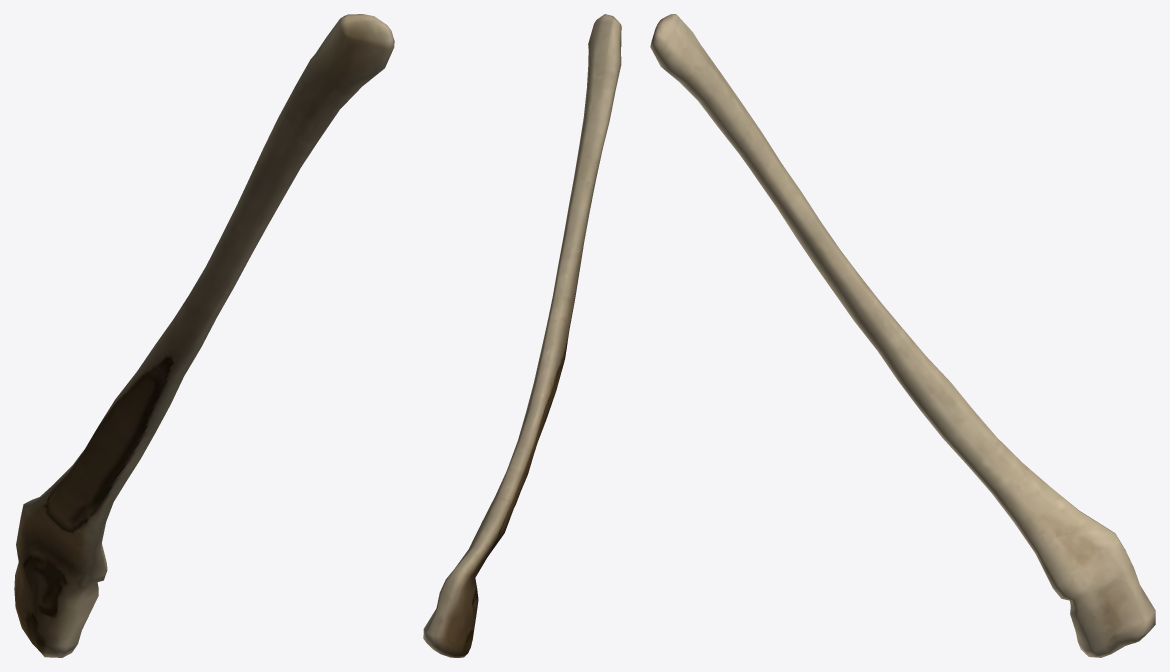
Rendered from Fibula.glb.
3 views of the same model, side by side, from view 1: azimuth 30°, elevation 25°; view 2: azimuth 150°, elevation 25°; view 3: azimuth 270°, elevation 25° (orthographic). The views are drawn at different scales.
Parts seen in each view (by area): view 1: Fibula_Left1:Fibula_Left; view 2: Fibula_Left1:Fibula_Left; view 3: Fibula_Left1:Fibula_Left.
Boxes of the visible parts, left/top/right/bottom form: Fibula_Left1:Fibula_Left: left=14, top=14, right=394, bottom=657; Fibula_Left1:Fibula_Left: left=423, top=14, right=621, bottom=657; Fibula_Left1:Fibula_Left: left=650, top=14, right=1155, bottom=657.
Bounding box in the file's own units: 12.38 × 98.21 × 69.27.
1 material, 1 textured.
